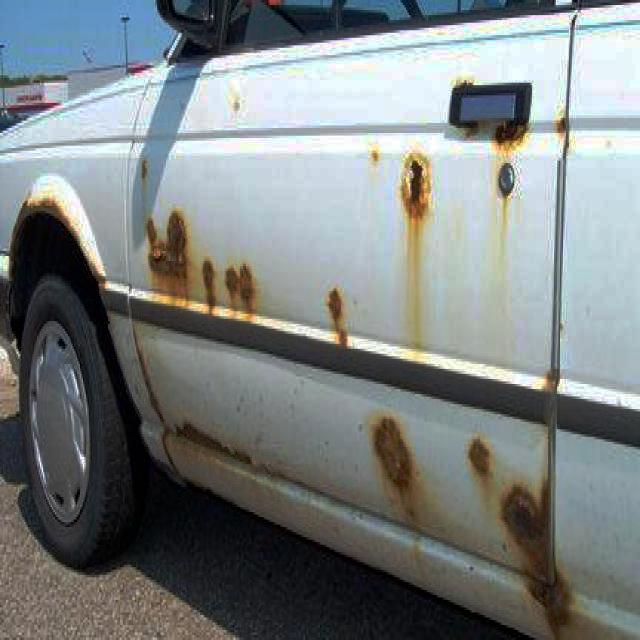Corrosion: (497, 471, 579, 639), (7, 195, 104, 283), (135, 340, 169, 464), (369, 415, 416, 501), (175, 422, 252, 466), (146, 212, 187, 280), (403, 154, 430, 218), (224, 264, 256, 314), (327, 288, 347, 349), (202, 260, 219, 314), (495, 121, 528, 144), (470, 440, 491, 476), (450, 69, 476, 90), (546, 368, 561, 394), (556, 112, 568, 134), (231, 92, 241, 114), (140, 157, 148, 180), (371, 146, 381, 164)
